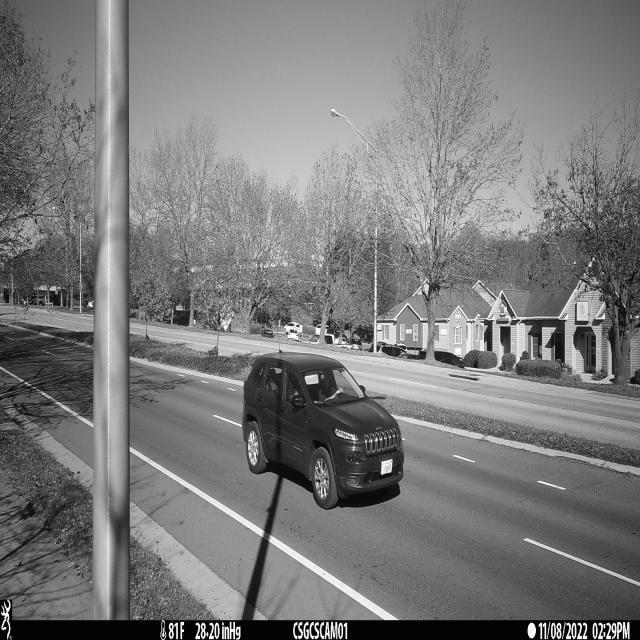SUV: (241, 349, 405, 511)
